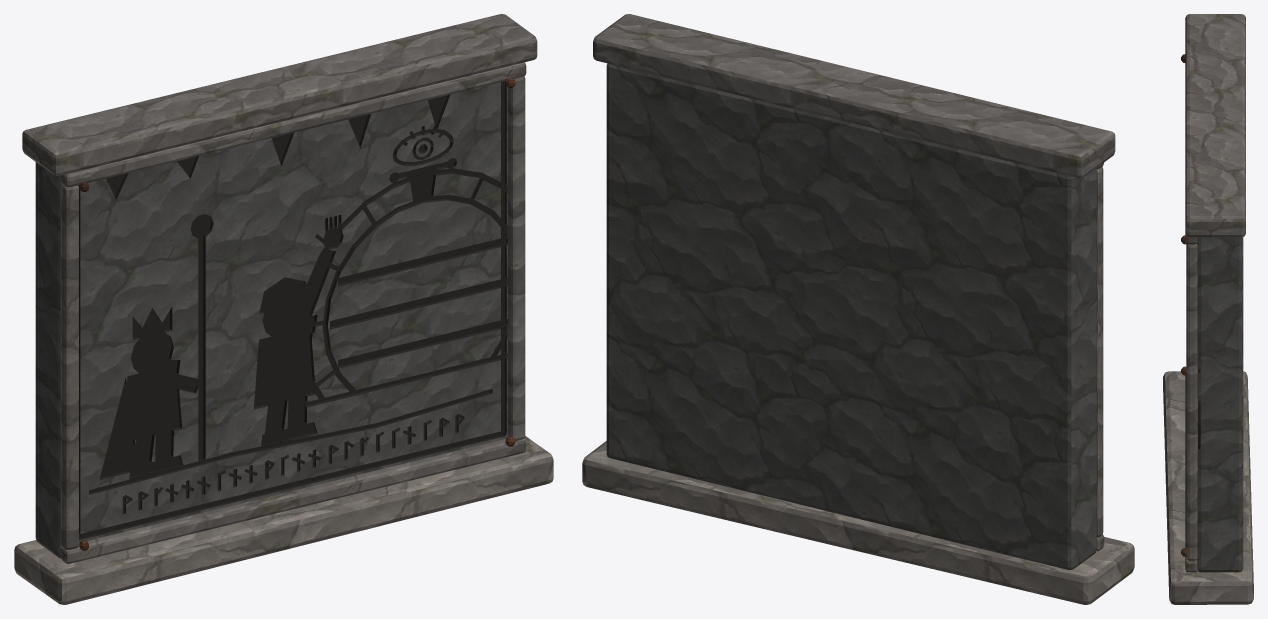
File: vo_relief_oath.glb
The picture shows the model from 3 angles, left to right: view 1: azimuth 30°, elevation 25°; view 2: azimuth 150°, elevation 25°; view 3: azimuth 270°, elevation 25°; orthographic projection. The views are drawn at different scales.
Visible parts, largest first — view 1: model; view 2: model; view 3: model.
Part boxes in pixels (left/top/right/bottom): model: left=14, top=14, right=553, bottom=604; model: left=582, top=14, right=1134, bottom=604; model: left=1163, top=14, right=1253, bottom=604.
Bounding box in the file's own units: 1.73 × 1.47 × 0.313.
Materials: 5 (4 with a texture image).
